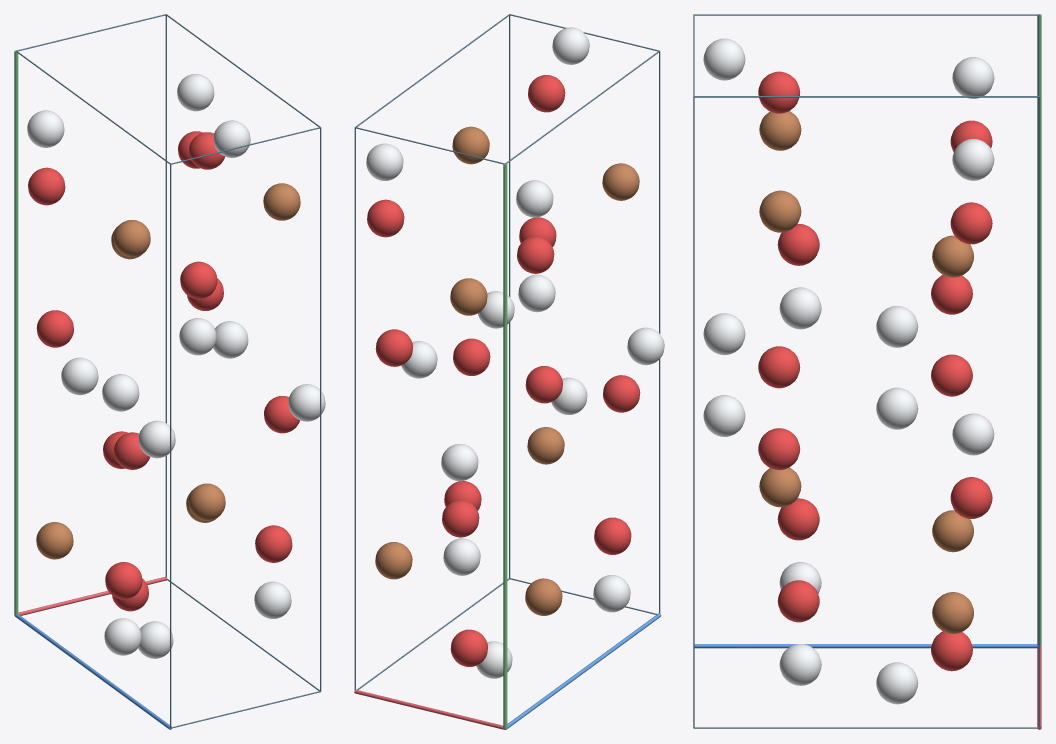
The model's file is chat-spertiniite.glb.
3 renders of one model, left to right at view 1: azimuth 30°, elevation 25°; view 2: azimuth 150°, elevation 25°; view 3: azimuth 270°, elevation 25°, orthographic. The views are drawn at different scales.
Visible parts, largest first — view 1: Ô mạng và các trục a, b, c, H2 · H · 1 (×6), H1 · H · 1 (×6), O1 · O · 1 (×6), O2 · O · 1 (×4), Cu · Cu · 1 (×4); view 2: Ô mạng và các trục a, b, c, H2 · H · 1 (×6), O1 · O · 1 (×6), Cu · Cu · 1 (×6), O2 · O · 1 (×6), H1 · H · 1 (×6); view 3: Ô mạng và các trục a, b, c, H1 · H · 1 (×6), O1 · O · 1 (×6), Cu · Cu · 1 (×6), H2 · H · 1 (×6), O2 · O · 1 (×6).
Boxes of the visible parts, x1,y1,x2,y2 form: Ô mạng và các trục a, b, c: (14, 14, 321, 729); H2 · H · 1 (×6): (27, 74, 291, 655); H1 · H · 1 (×6): (61, 120, 325, 658); O1 · O · 1 (×6): (36, 132, 299, 611); O2 · O · 1 (×4): (28, 167, 292, 599); Cu · Cu · 1 (×4): (36, 183, 300, 559); Ô mạng và các trục a, b, c: (354, 14, 661, 729); H2 · H · 1 (×6): (366, 143, 630, 612); O1 · O · 1 (×6): (375, 75, 640, 666); Cu · Cu · 1 (×6): (375, 126, 639, 615); O2 · O · 1 (×6): (367, 199, 631, 554); H1 · H · 1 (×6): (401, 27, 664, 678); Ô mạng và các trục a, b, c: (693, 14, 1041, 729); H1 · H · 1 (×6): (703, 38, 918, 704); O1 · O · 1 (×6): (758, 71, 972, 671); Cu · Cu · 1 (×6): (759, 111, 973, 633); H2 · H · 1 (×6): (779, 57, 994, 685); O2 · O · 1 (×6): (777, 120, 992, 622).
Bounding box in the file's own units: 3.59 × 11.11 × 5.3.
